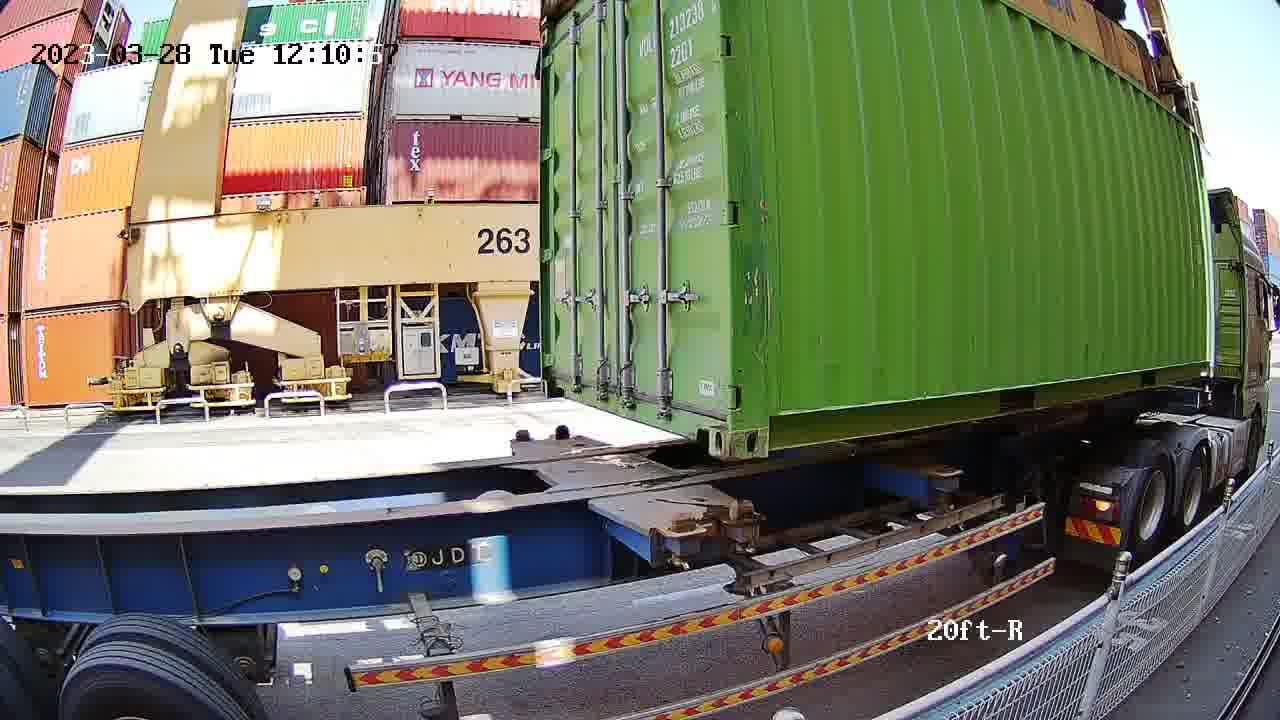Chassis: (510, 440, 708, 539), (552, 436, 759, 524)
Cone: (721, 499, 761, 558), (666, 510, 702, 571), (550, 423, 573, 442), (512, 426, 534, 445)
Hole_L: (730, 394, 798, 460), (540, 354, 575, 403)
Hole_R: (687, 387, 731, 459)
Tire: (1123, 447, 1175, 558), (1176, 443, 1214, 540)
